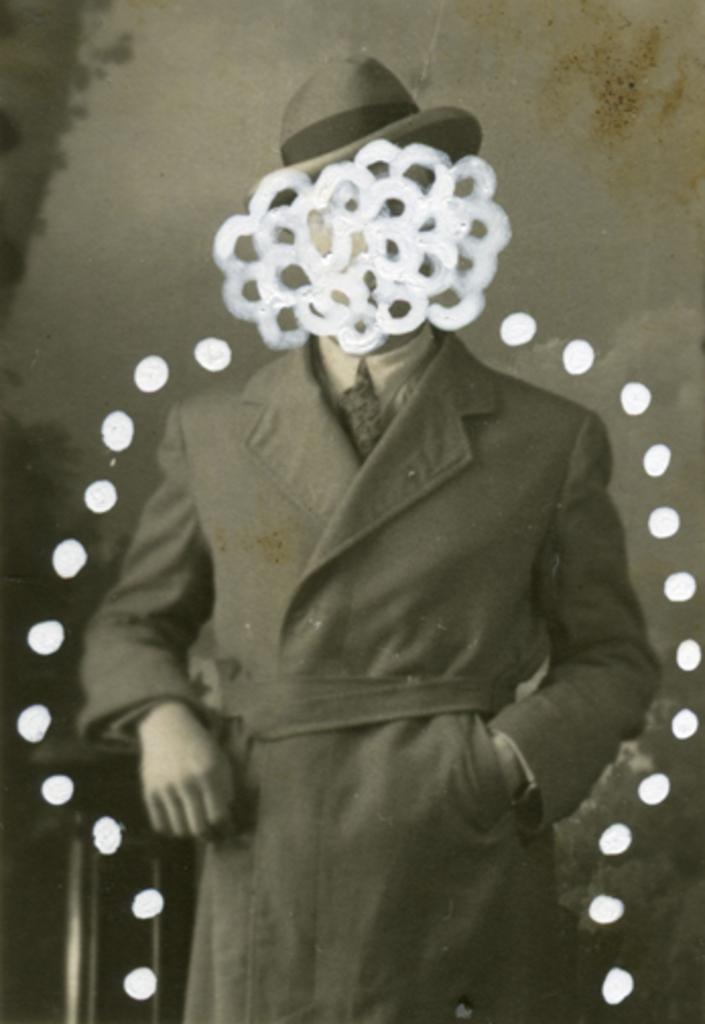Hat: (236, 53, 480, 205)
